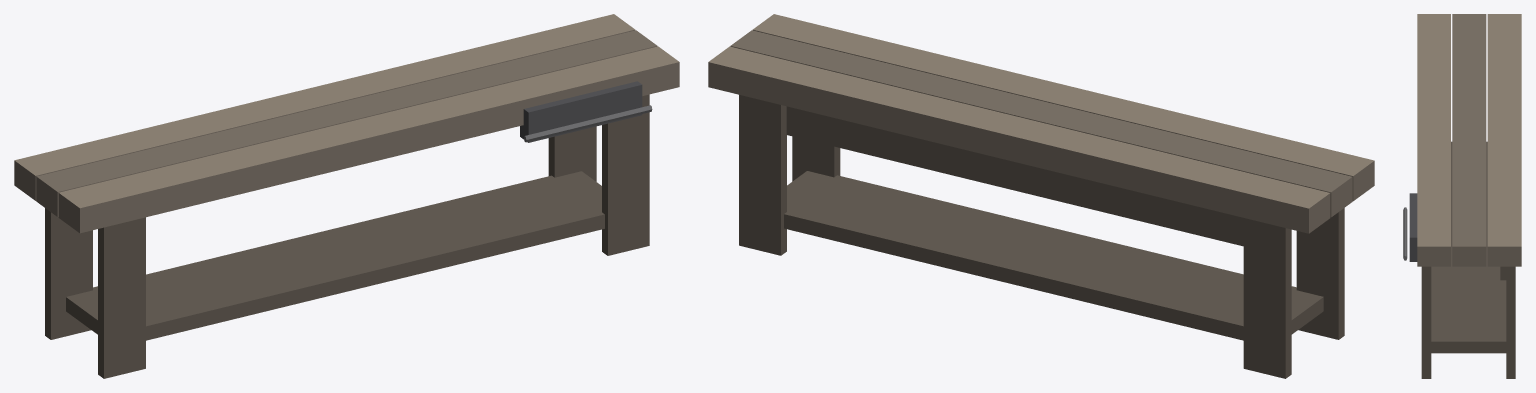
Rendered from workbench.glb.
3 views of the same model, side by side, from view 1: azimuth 30°, elevation 25°; view 2: azimuth 150°, elevation 25°; view 3: azimuth 270°, elevation 25° (orthographic). The views are drawn at different scales.
Visible parts, largest first — view 1: workbench; view 2: workbench; view 3: workbench.
Boxes of the visible parts, x1=… form: workbench: x1=14, y1=14, x2=679, y2=378; workbench: x1=708, y1=14, x2=1374, y2=378; workbench: x1=1403, y1=14, x2=1521, y2=378.
Bounding box in the file's own units: 2.8 × 0.8 × 0.6.
